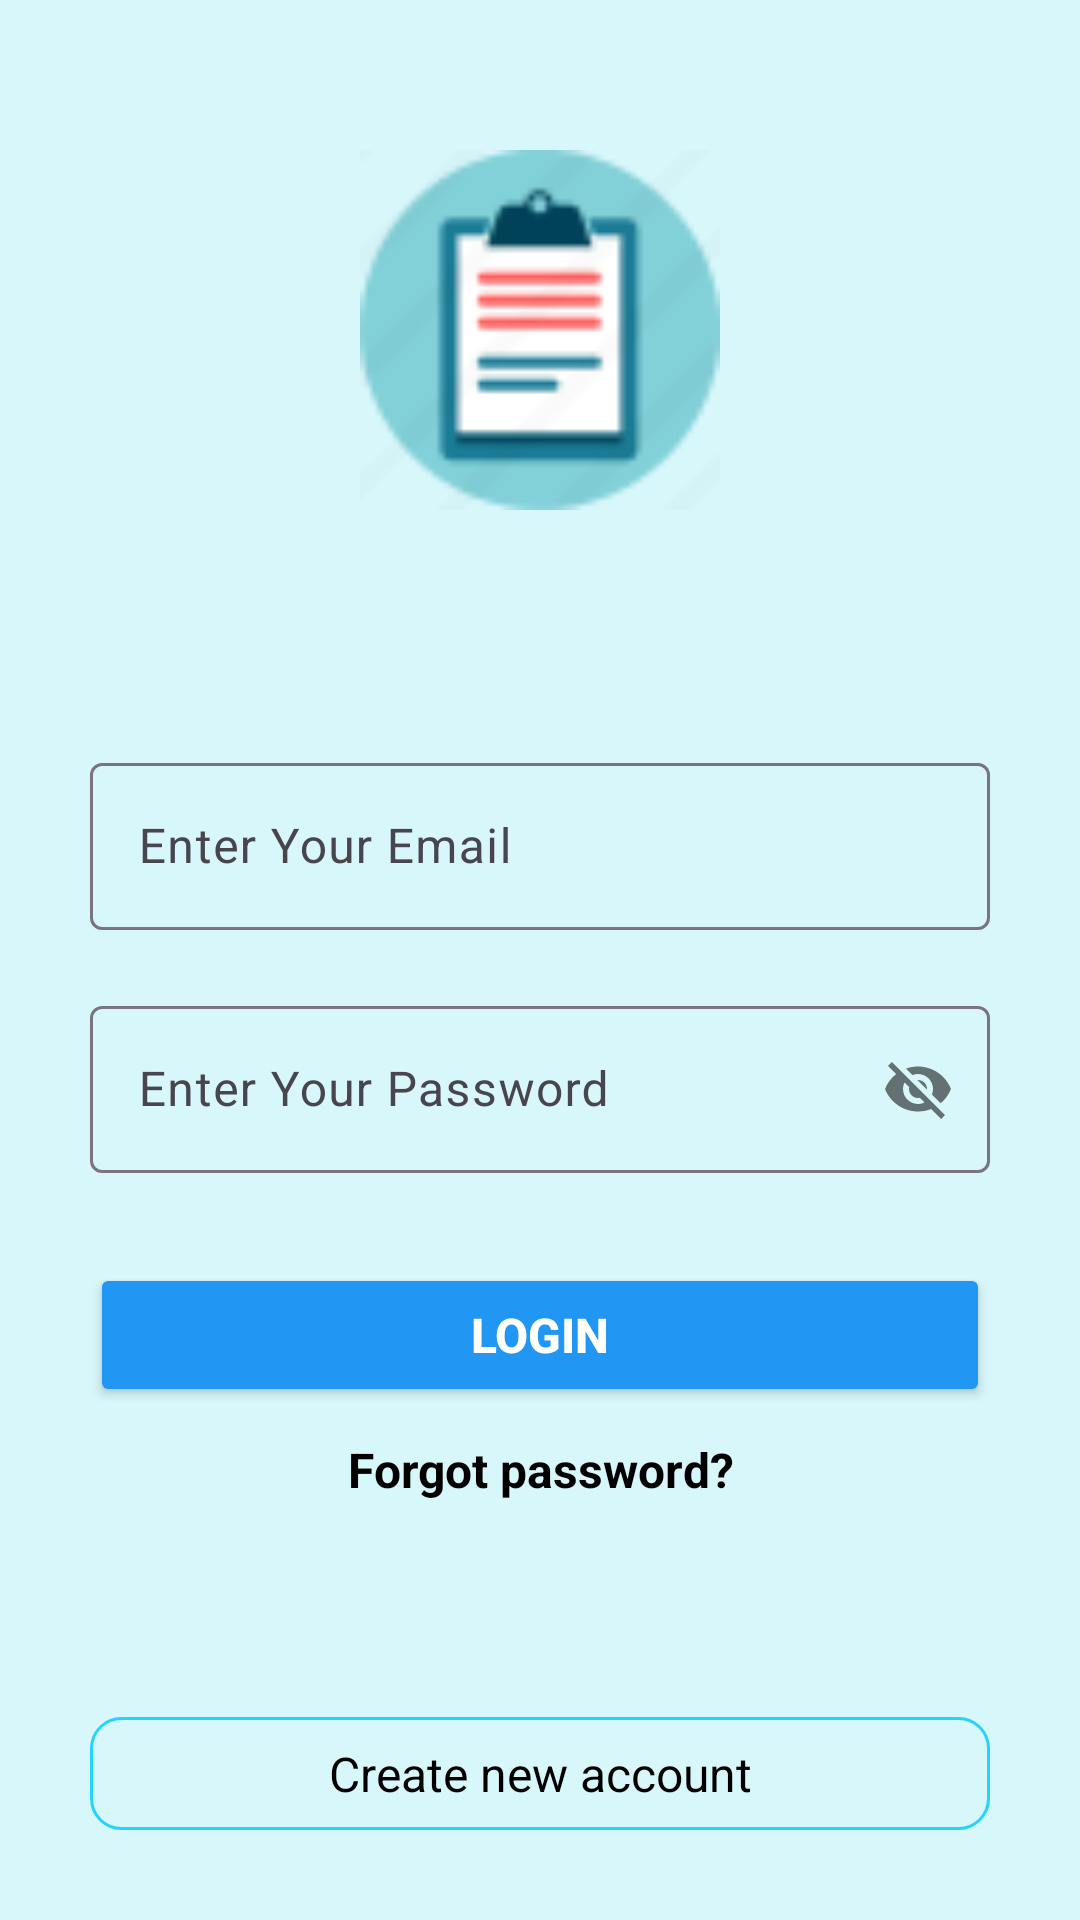

Named icons in this screenshot (1080px×1920px) and their bounding boxes, (x1, y1, x2, y2):
notes: (360, 150, 720, 510)
